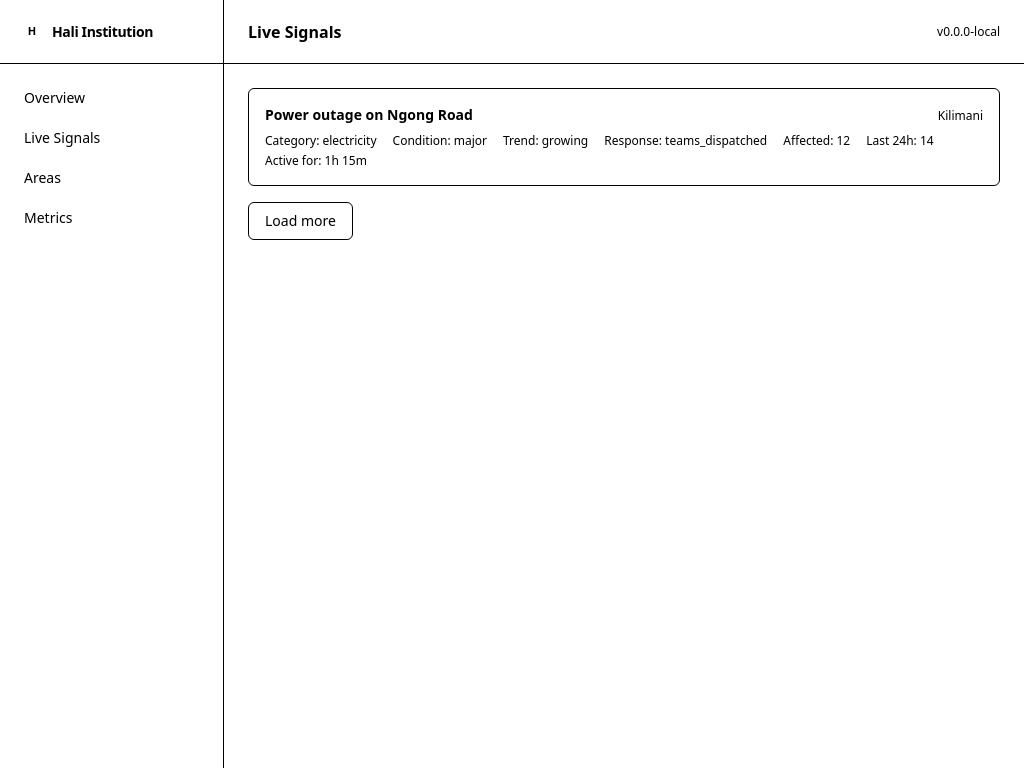
Test case: SignalsScreen › loads additional pages via the Load more button when the server returns a cursor
Expected: the text "Power outage on Ngong Road" is shown, x1=265 y1=105 x2=473 y2=125
Click the button "Load more" at (300, 221), box x1=248 y1=202 x2=353 y2=240
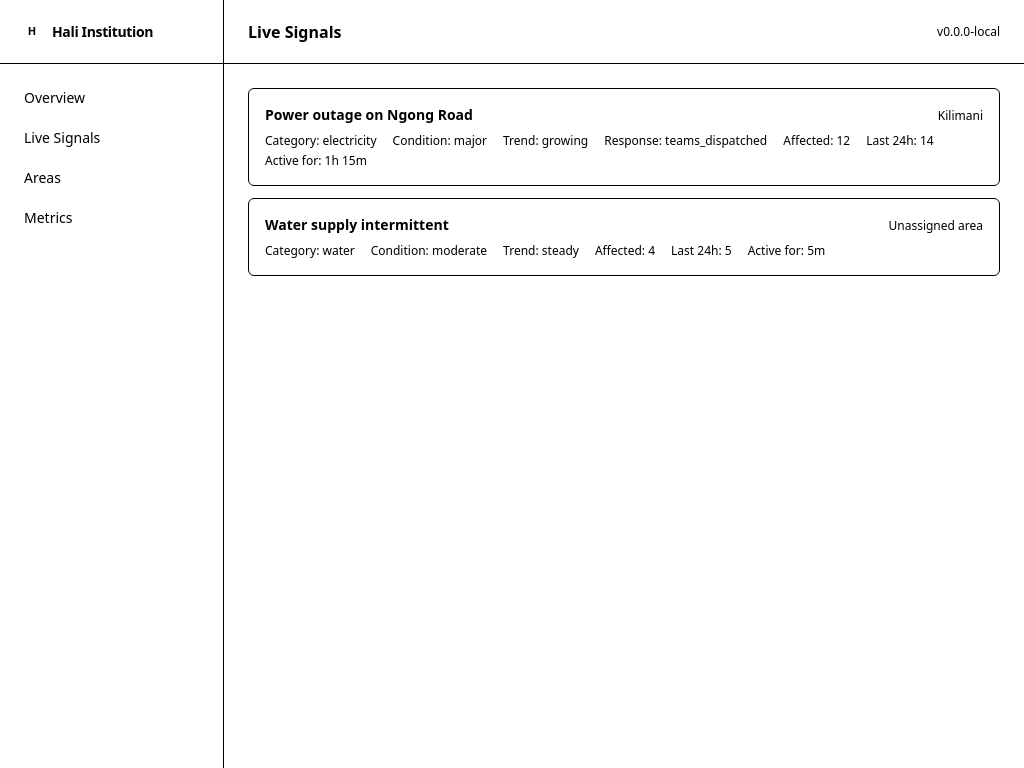
Expected: the text "Water supply intermittent" is shown, x1=265 y1=215 x2=449 y2=235
Expected: the button "Load more" is gone
